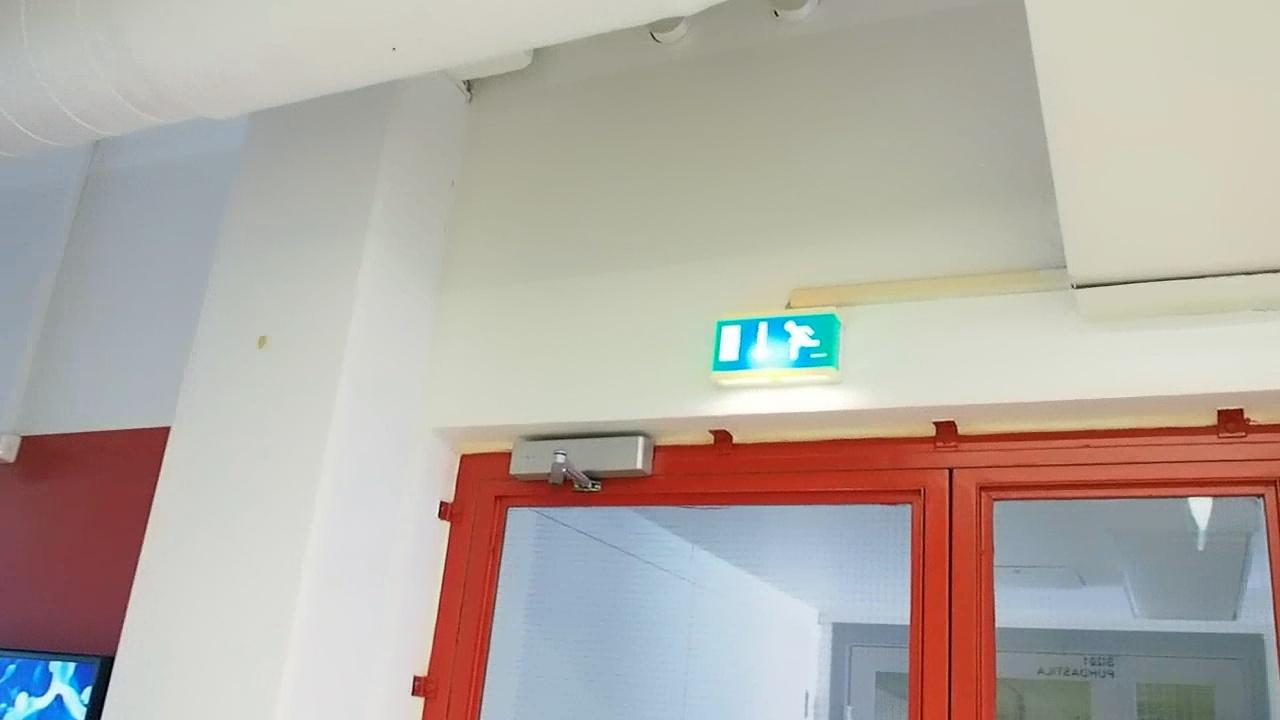exit: (711, 312, 847, 379)
